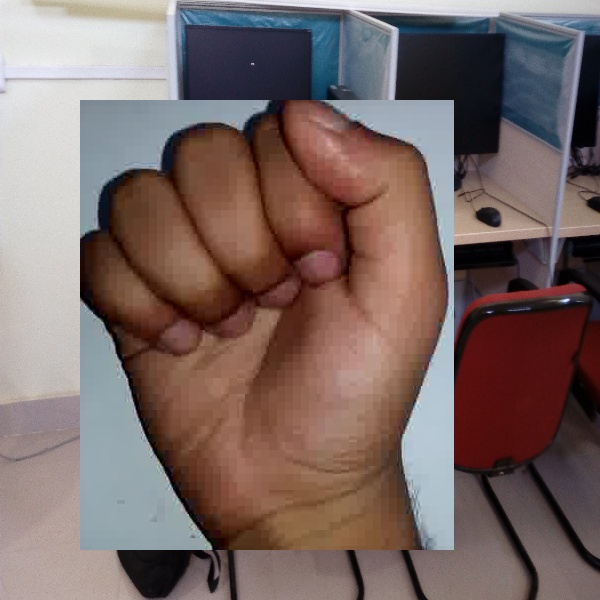A: (80, 100, 454, 550)
